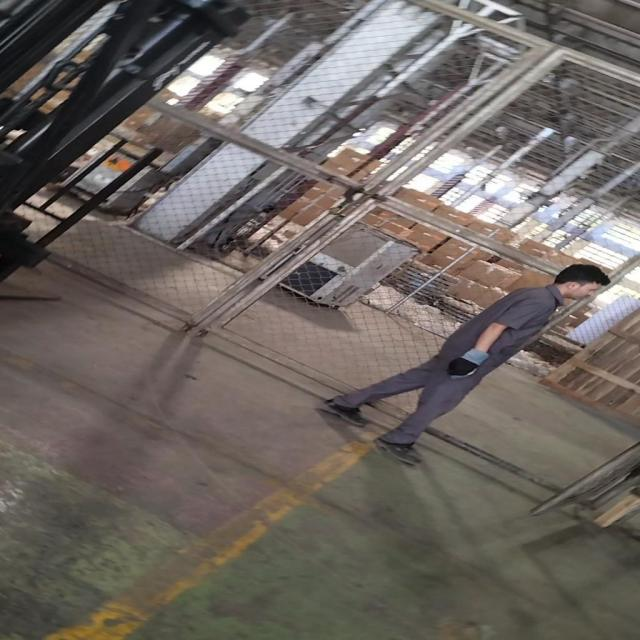Gloves-Detection: (446, 343, 488, 380)
